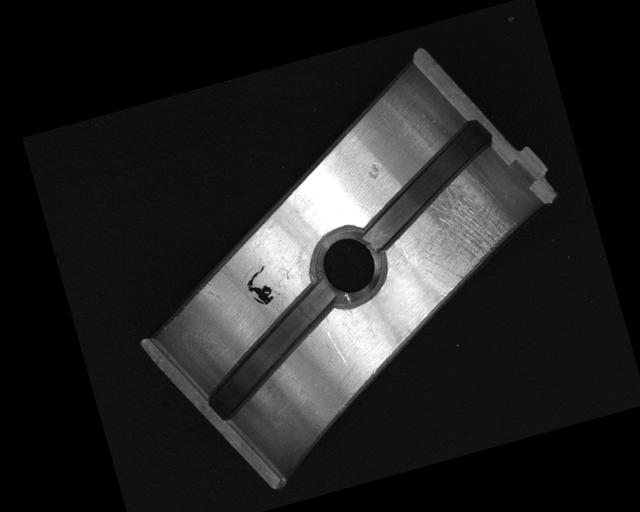blot: (240, 263, 277, 311)
bruise: (363, 159, 385, 181)
gap: (182, 282, 356, 423), (344, 117, 511, 249)
hole: (301, 220, 393, 314)
nick: (327, 328, 349, 371)
scratch: (395, 166, 527, 296)
